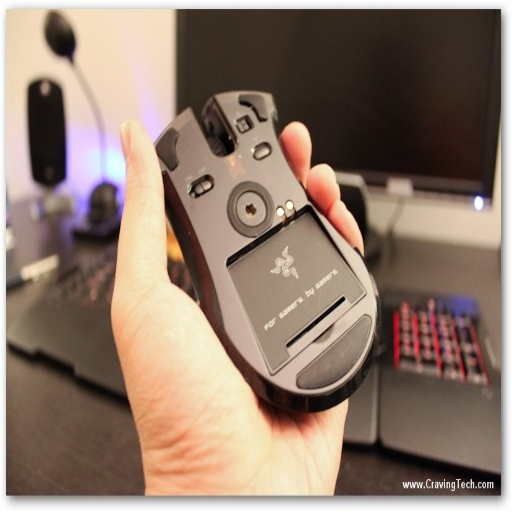hand: (105, 97, 396, 456)
